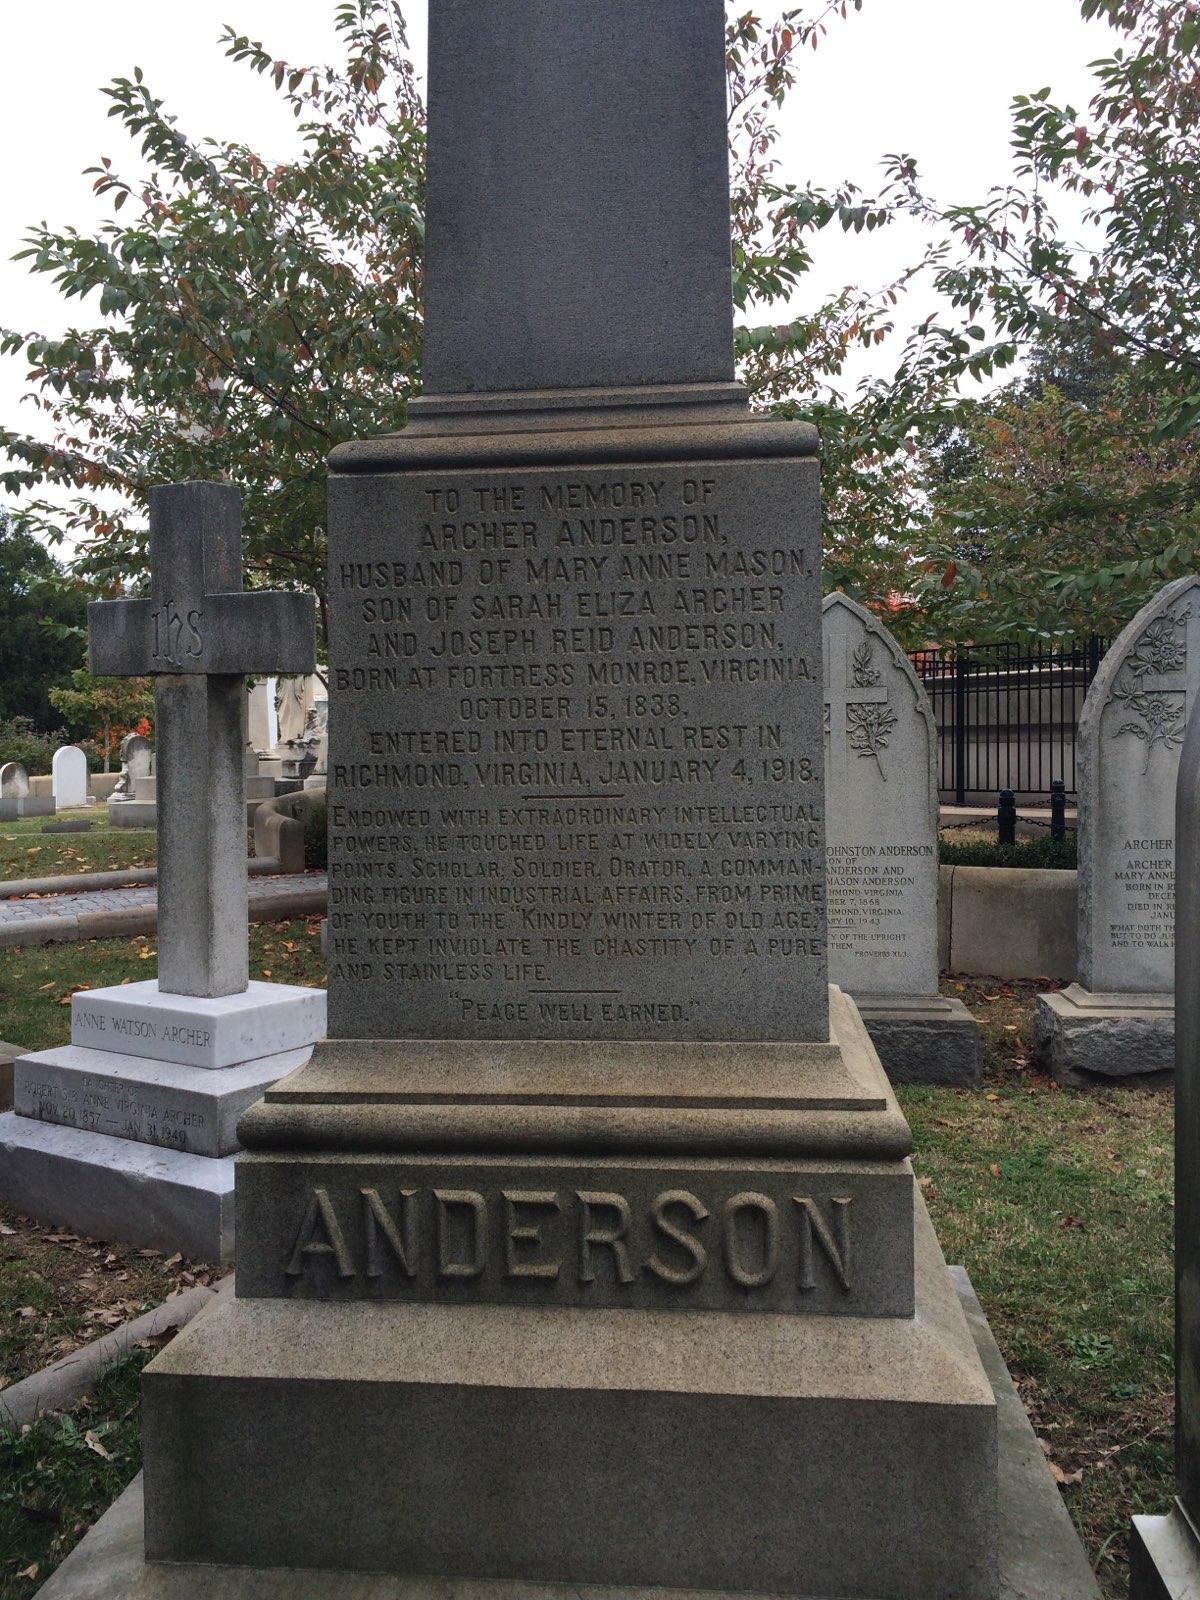obelisk: (245, 0, 901, 1314)
